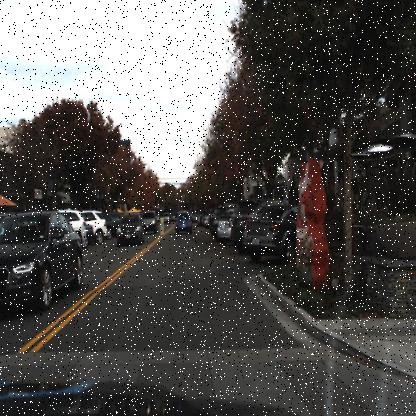car: (0, 206, 85, 312), (243, 204, 296, 266), (230, 198, 268, 252), (55, 207, 88, 257), (78, 208, 108, 248), (113, 209, 145, 246), (216, 209, 238, 243), (138, 209, 160, 236), (172, 208, 194, 235), (143, 206, 158, 234)
